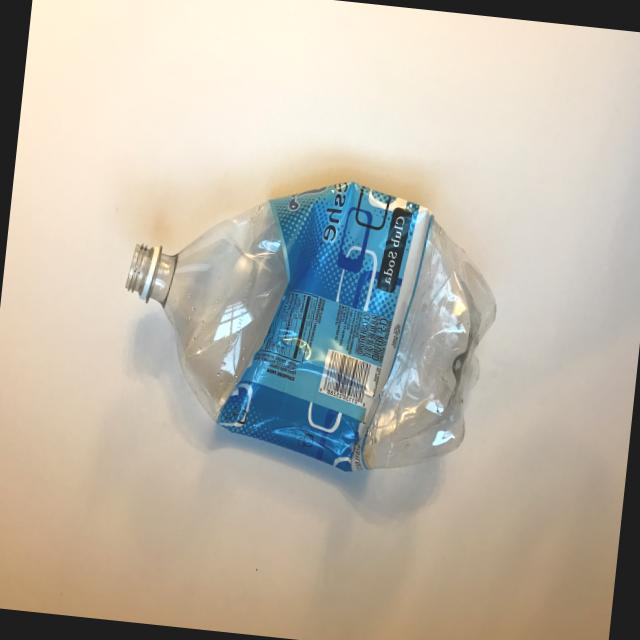Plastic: (77, 155, 530, 549)
